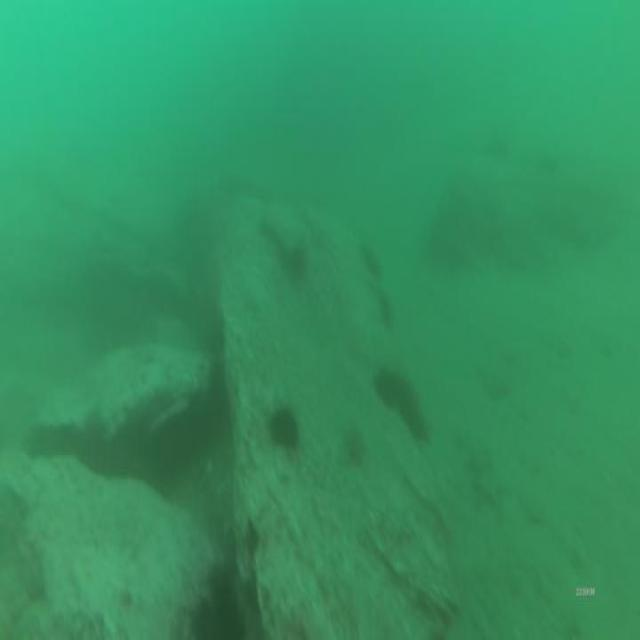echinus: (195, 597, 241, 640), (270, 409, 302, 452), (376, 370, 401, 406)
